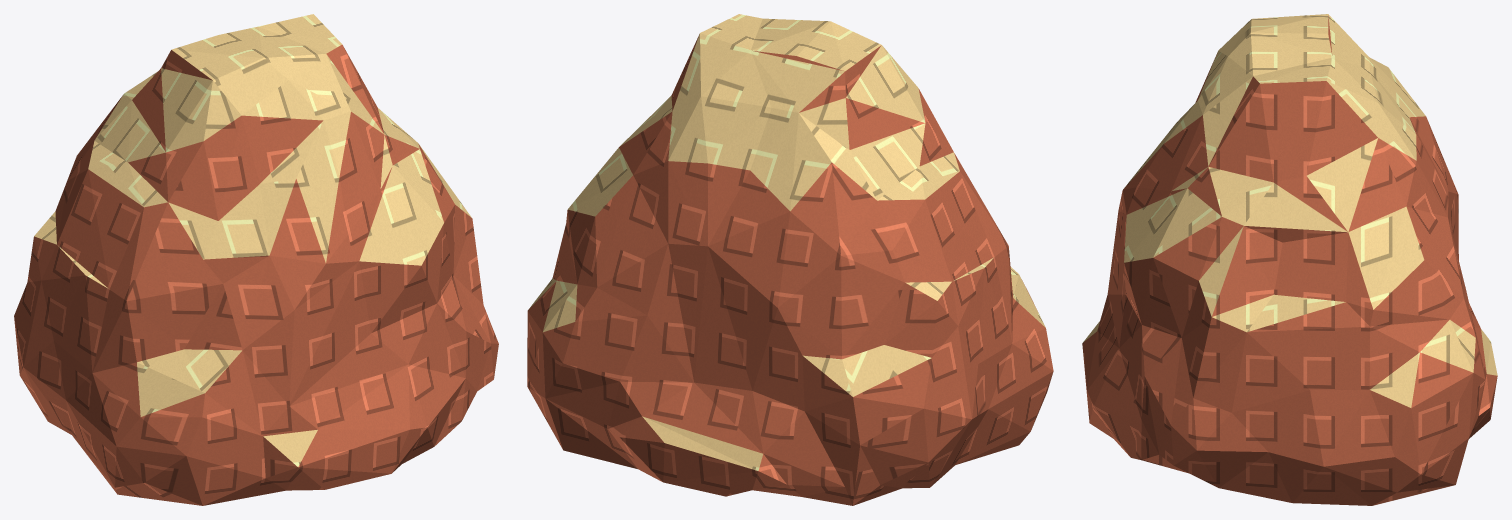
Rendered from DesertRoundBoulder.glb.
The picture shows the model from 3 angles, left to right: view 1: azimuth 30°, elevation 25°; view 2: azimuth 150°, elevation 25°; view 3: azimuth 270°, elevation 25°; orthographic projection. The views are drawn at different scales.
Parts seen in each view (by area): view 1: DesertRoundBoulder_Rock, DesertRoundBoulder_Top; view 2: DesertRoundBoulder_Rock, DesertRoundBoulder_Top; view 3: DesertRoundBoulder_Rock, DesertRoundBoulder_Top.
Part boxes in pixels (x1,y1,x2,y2): DesertRoundBoulder_Rock: [14, 44, 498, 505]; DesertRoundBoulder_Top: [34, 14, 471, 466]; DesertRoundBoulder_Rock: [527, 34, 1053, 505]; DesertRoundBoulder_Top: [528, 14, 1045, 470]; DesertRoundBoulder_Rock: [1082, 15, 1497, 505]; DesertRoundBoulder_Top: [1083, 14, 1497, 407].
Bounding box in the file's own units: 8.34 × 7.53 × 7.22.
2 materials, 2 textured.
